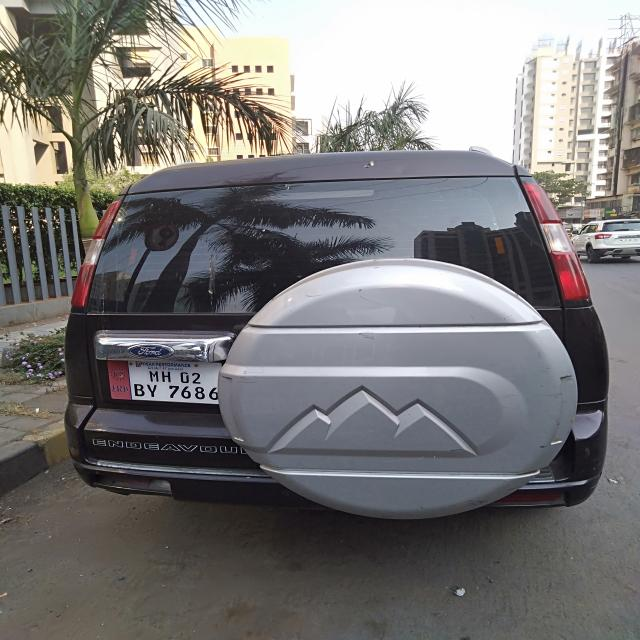Number-Plate: (109, 359, 229, 406)
